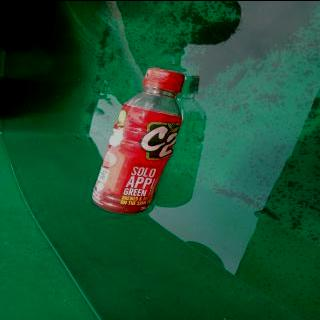bottle: (88, 66, 186, 214)
